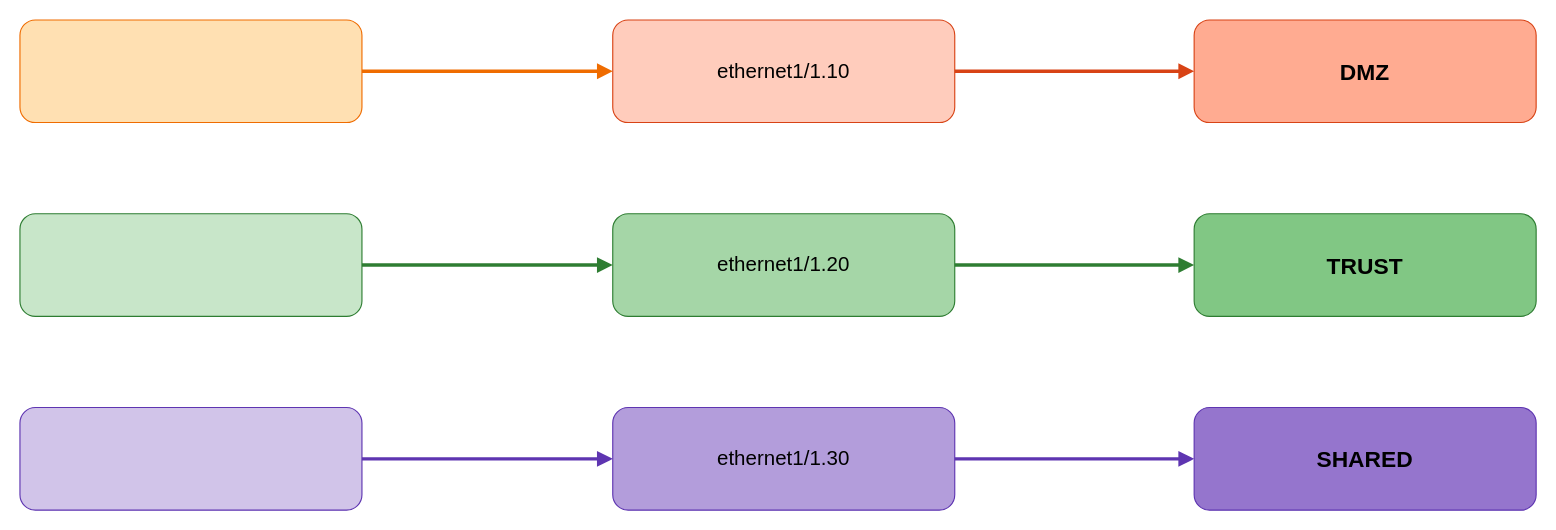
This 1556x530 diagram has some shape labels left out. The box of each missing label's shape, as (x1, y1, x2, y2) in pixels:
vpce-dmz-a / b DMZ GWLBE: (19, 19, 362, 123)
vpce-shared-a / b: (19, 406, 362, 510)
vpce-trust-a / b Internal GWLBE: (19, 213, 362, 316)
